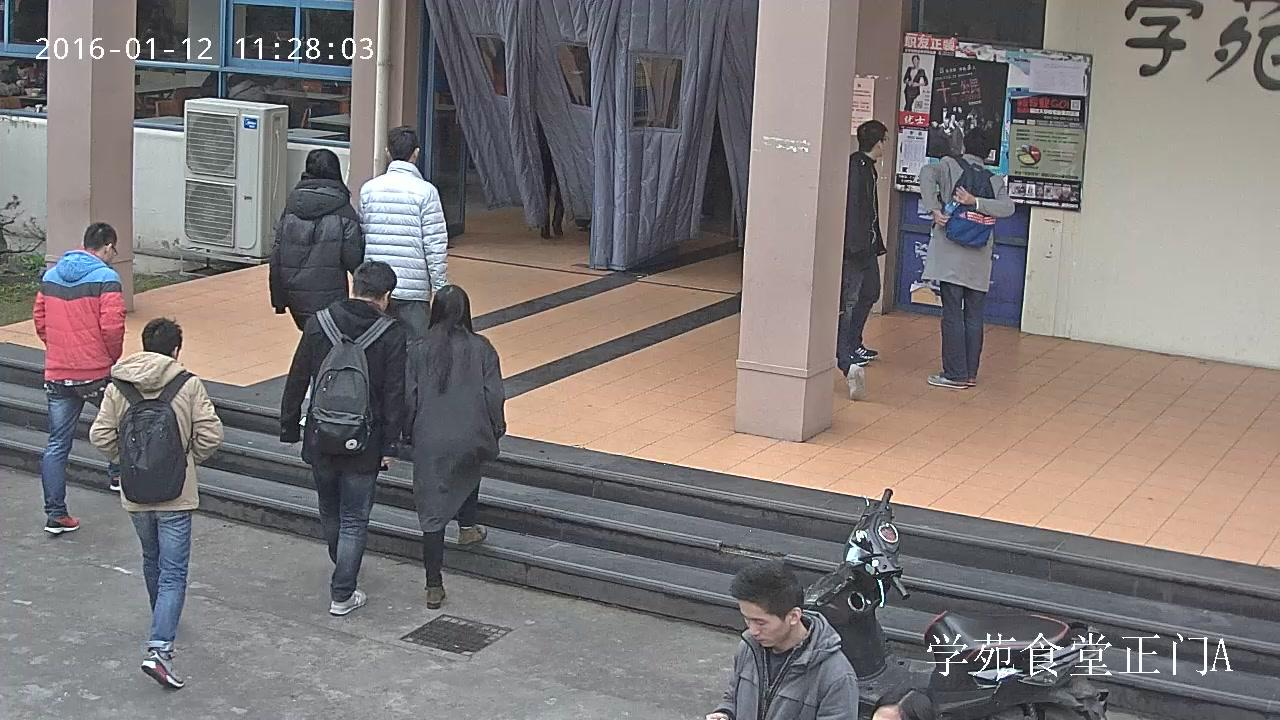person: (87, 318, 224, 692), (280, 258, 420, 617), (402, 283, 507, 611), (356, 124, 451, 474), (32, 221, 126, 536), (703, 557, 860, 720), (919, 127, 1015, 390), (266, 147, 365, 332), (836, 119, 888, 367), (533, 116, 568, 239), (0, 56, 34, 101), (903, 52, 927, 112)
